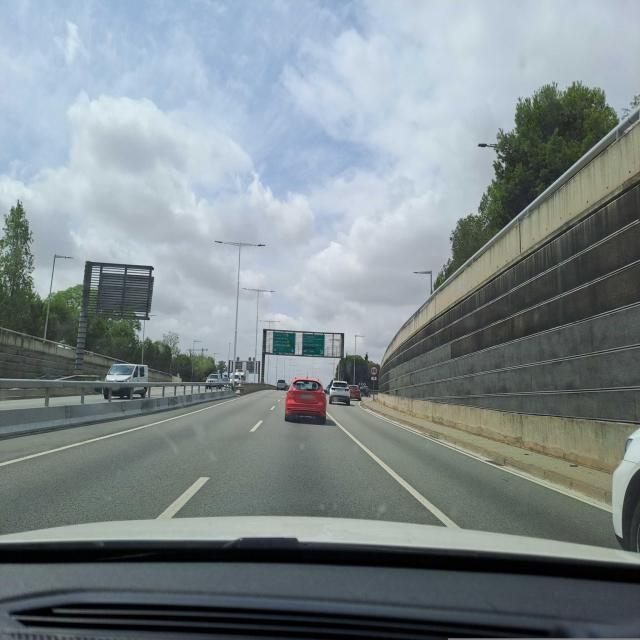car: (610, 422, 640, 557), (284, 377, 327, 424), (101, 362, 150, 400), (327, 380, 351, 406), (205, 373, 223, 389), (348, 384, 362, 401), (276, 379, 288, 391), (359, 384, 369, 396), (221, 374, 230, 384)
